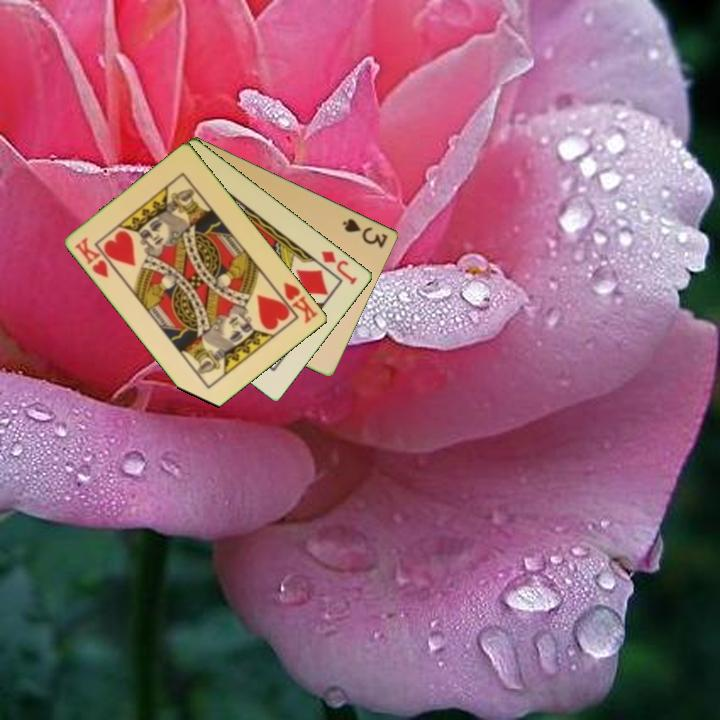3s: (339, 215, 391, 251)
Jd: (318, 247, 360, 287)
Kh: (271, 279, 321, 327), (71, 233, 112, 281)
